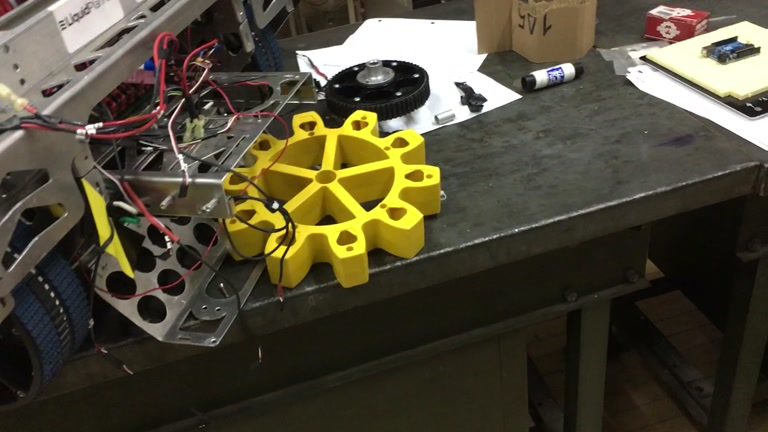gear: (220, 110, 440, 289)
